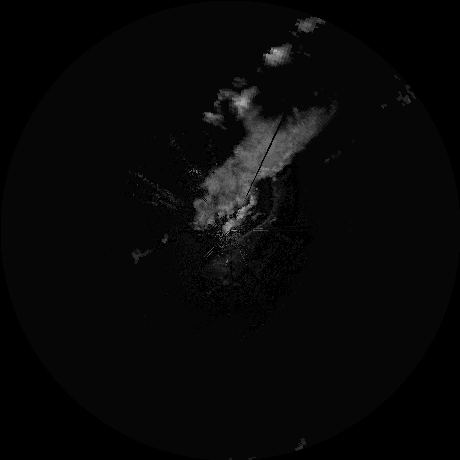frontgust: (247, 179, 278, 241)
